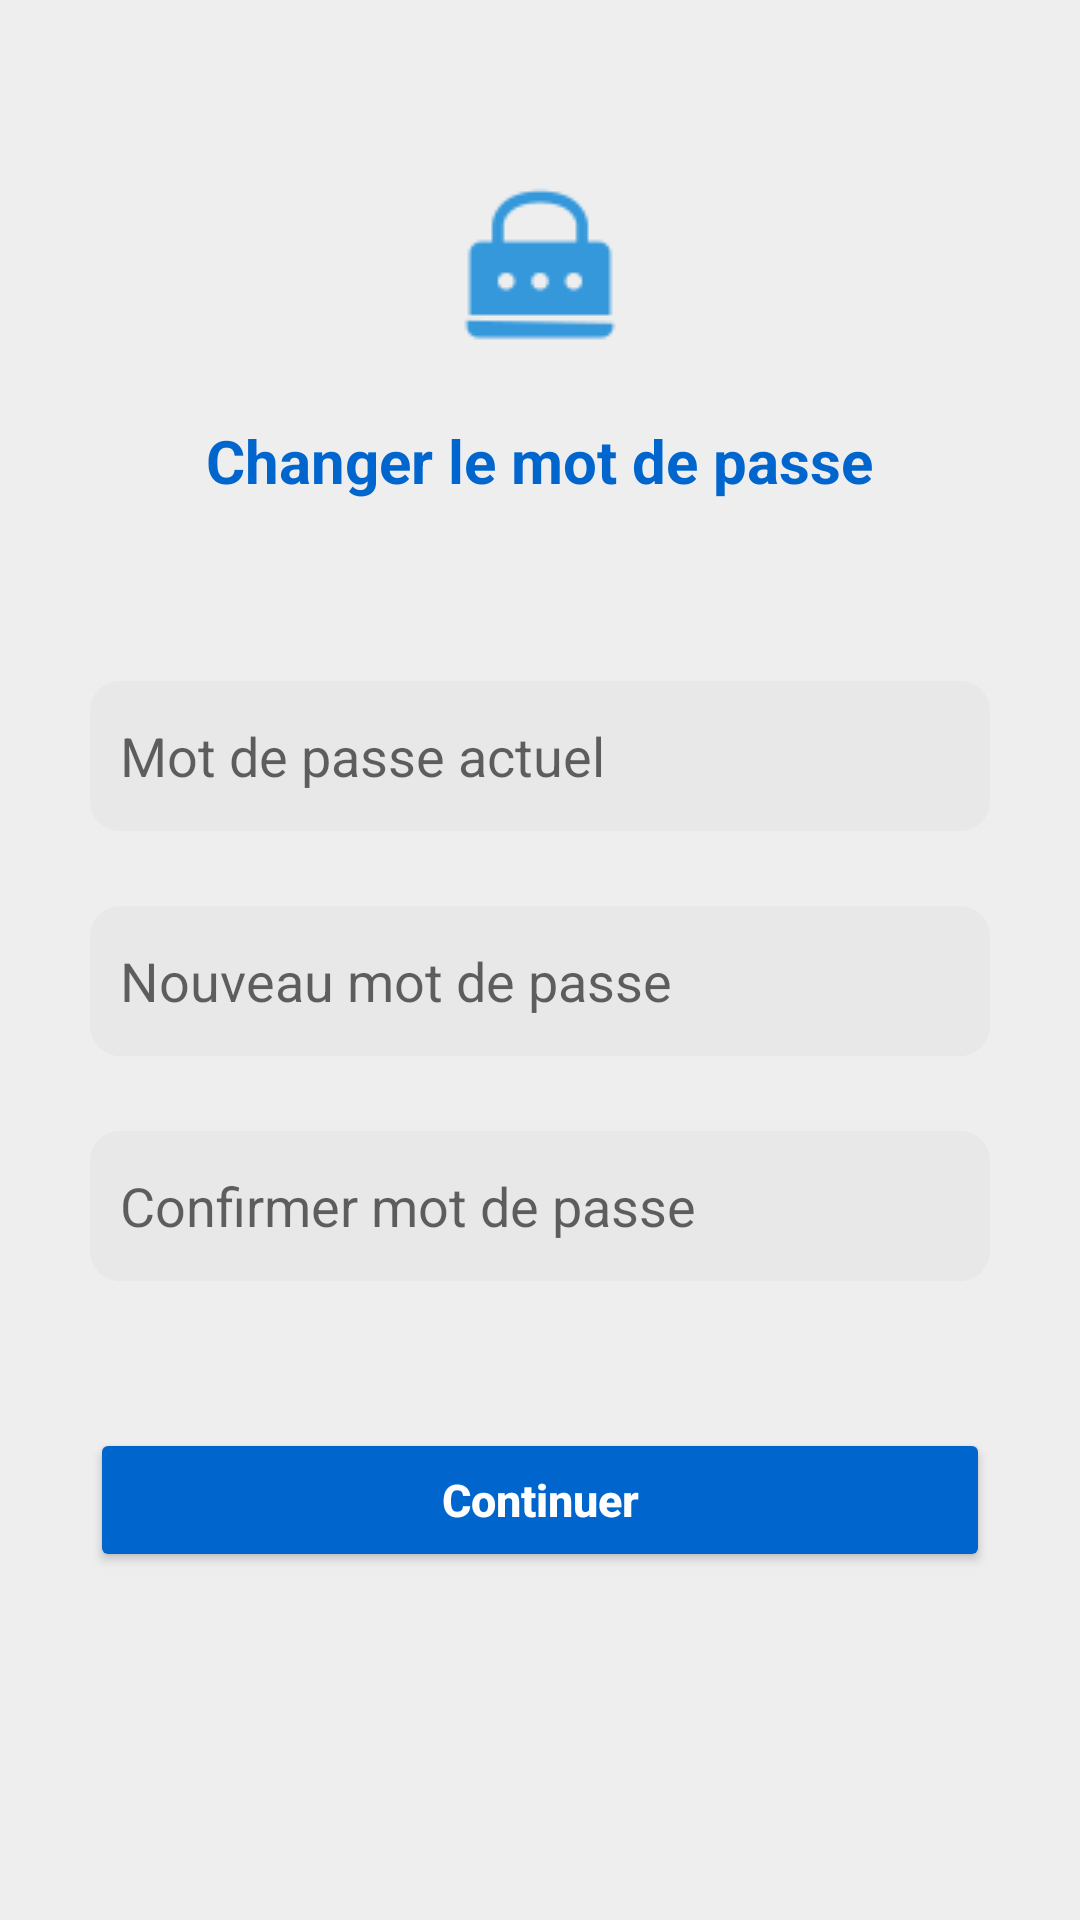

Screen size 1080w x 1920h. Icon name, then its box in pixels as bbox=(x1, y1, x2, y2):
changepwd: bbox=(465, 189, 615, 340)
